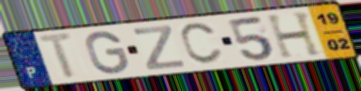5: (226, 14, 277, 63)
C: (178, 21, 225, 66)
G: (84, 30, 131, 75)
H: (264, 9, 326, 60)
T: (36, 31, 79, 81)
Z: (131, 23, 187, 72)
